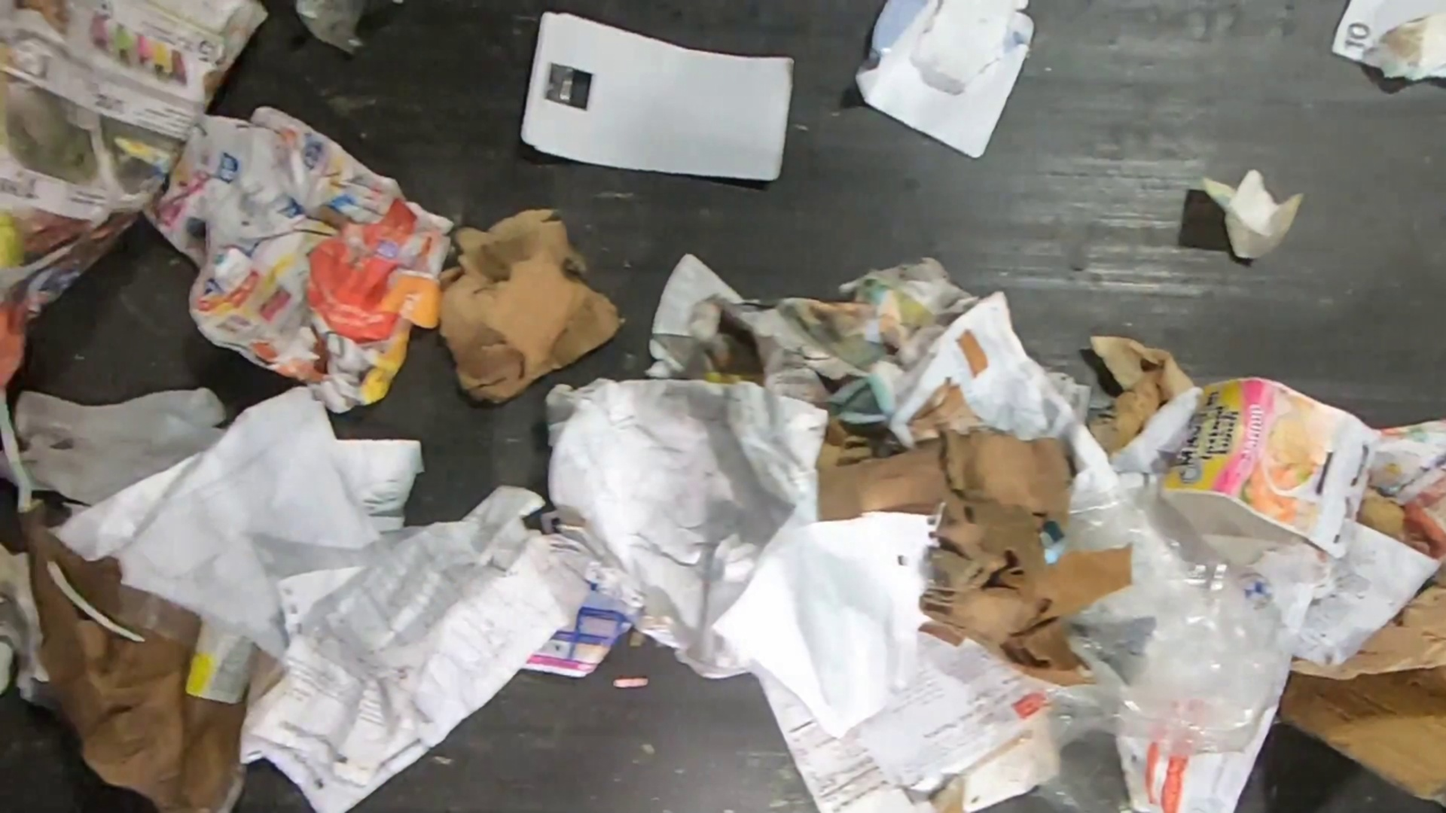cardboard: (815, 418, 1128, 686), (1276, 562, 1446, 811), (1164, 375, 1386, 560), (436, 208, 629, 407), (1087, 335, 1198, 458)
plastic: (1023, 463, 1318, 813)
